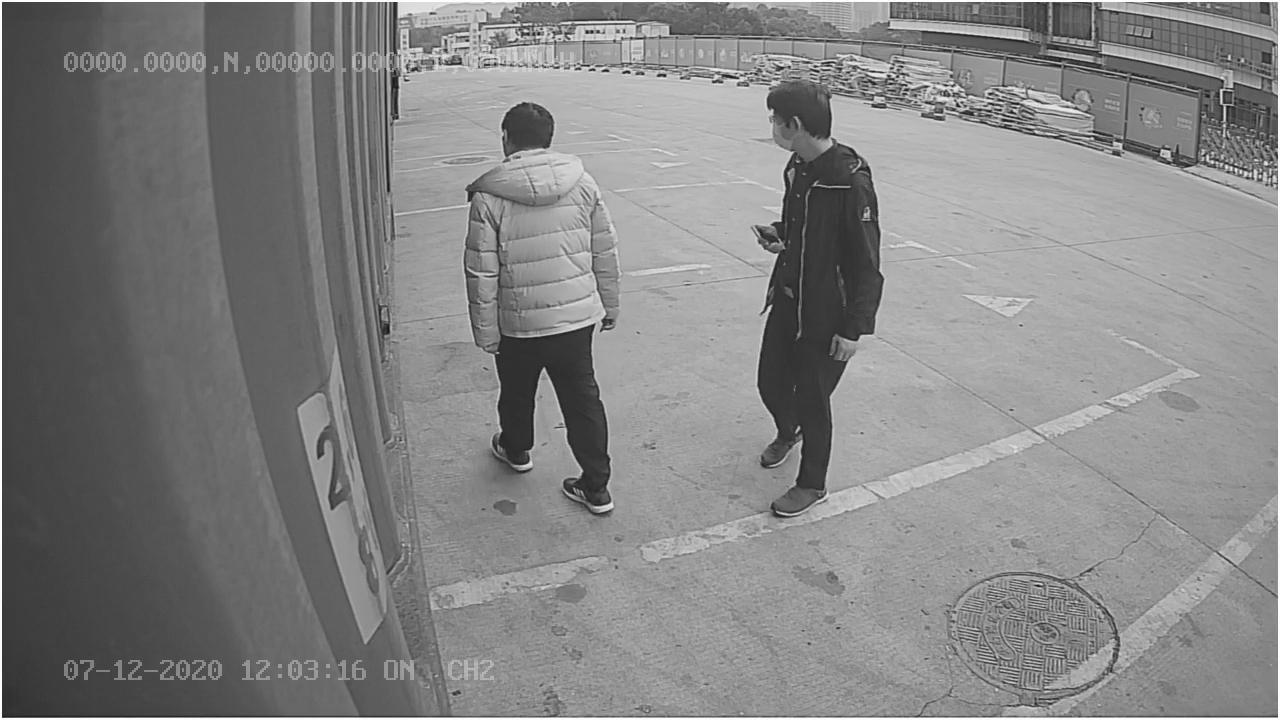person: (458, 95, 626, 517), (741, 75, 886, 518)
